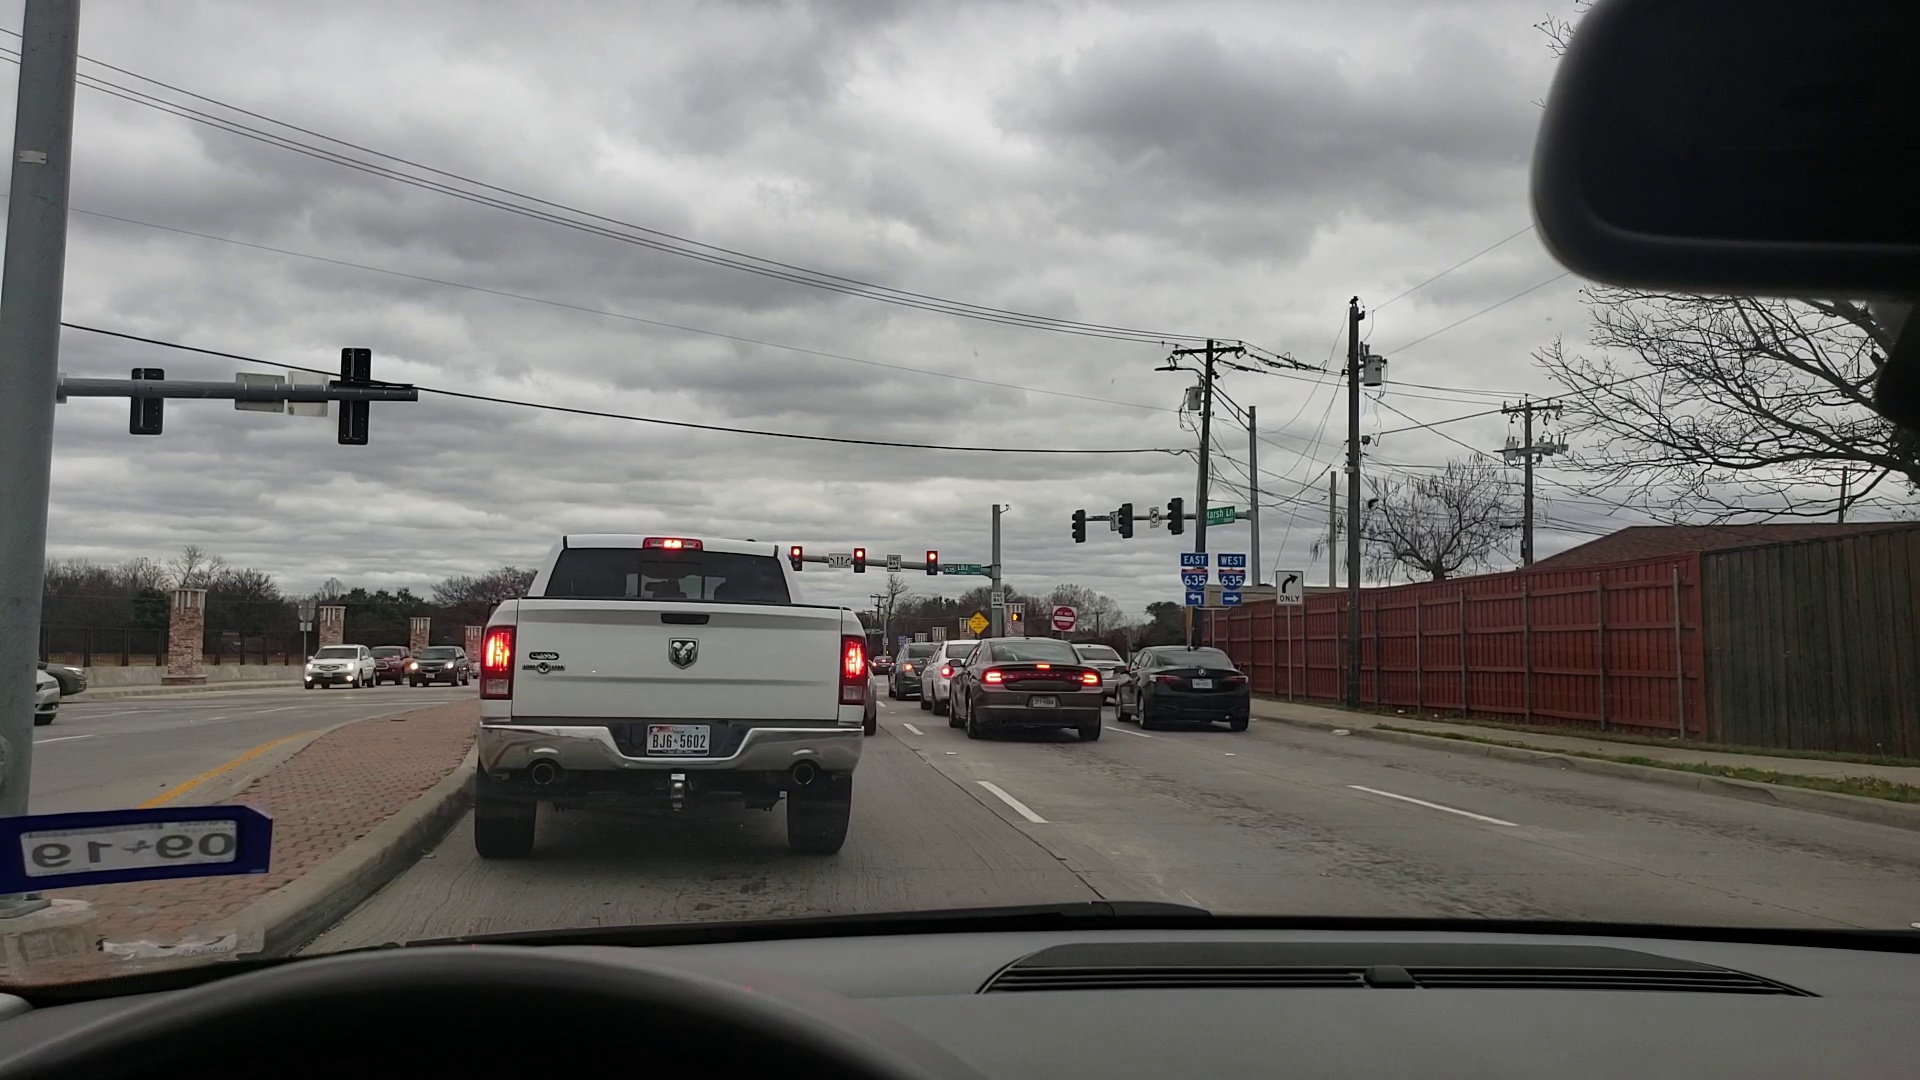car: (948, 640, 1101, 738), (1112, 644, 1255, 738), (1069, 638, 1138, 700), (920, 640, 975, 711), (301, 644, 375, 694), (882, 644, 943, 698), (411, 644, 465, 688), (40, 655, 84, 698), (369, 644, 405, 684), (38, 669, 61, 724), (873, 654, 897, 676)
traffic light: (789, 541, 804, 578), (1071, 508, 1087, 543), (1117, 502, 1127, 535), (855, 546, 865, 575), (924, 550, 935, 578)
truck: (477, 512, 866, 862)
